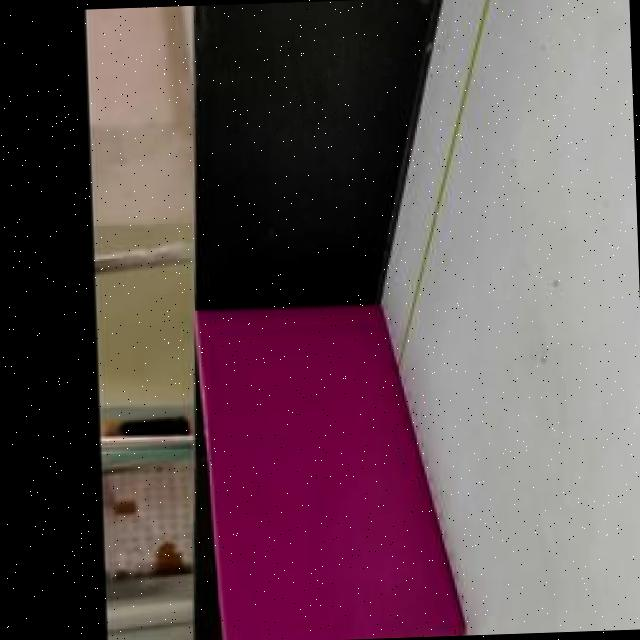xparking: (213, 307, 436, 640)
